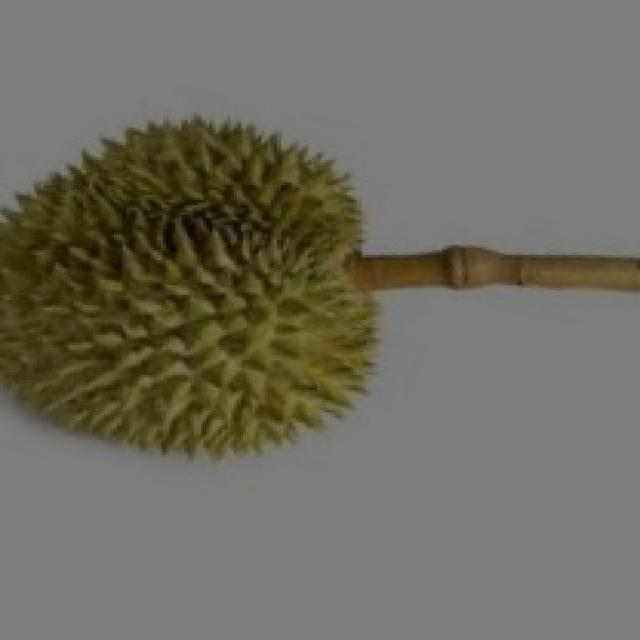fruit: (0, 99, 418, 522)
